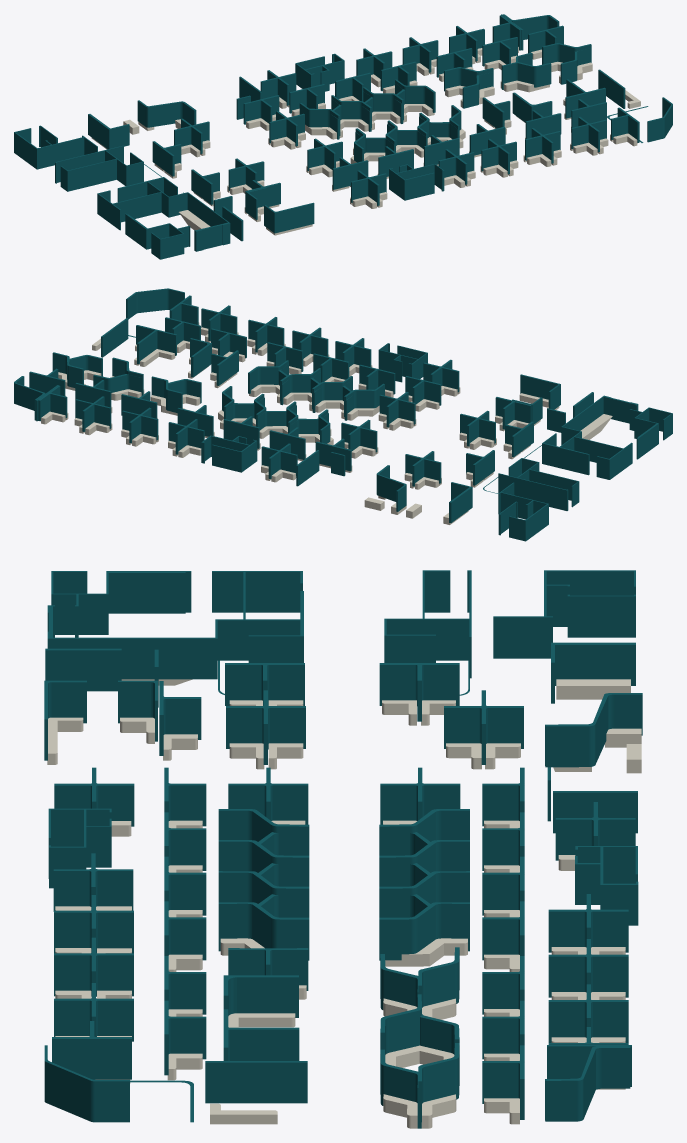
Rendered from Obstacles.fbx.
The picture shows the model from 3 angles, top to bottom: view 1: azimuth 30°, elevation 25°; view 2: azimuth 150°, elevation 25°; view 3: azimuth 270°, elevation 25°; orthographic projection. The views are drawn at different scales.
Visible parts, largest first — view 1: Plane, Cube; view 2: Plane, Cube; view 3: Plane, Cube.
Boxes of the visible parts, x1=… form: Plane: x1=14, y1=14, x2=672, y2=259; Cube: x1=91, y1=42, x2=640, y2=235; Plane: x1=14, y1=288, x2=672, y2=541; Cube: x1=41, y1=322, x2=612, y2=524; Plane: x1=44, y1=570, x2=642, y2=1128; Cube: x1=47, y1=679, x2=641, y2=1128.
Size of the model in its own units: 737 by 32.69 by 365.
